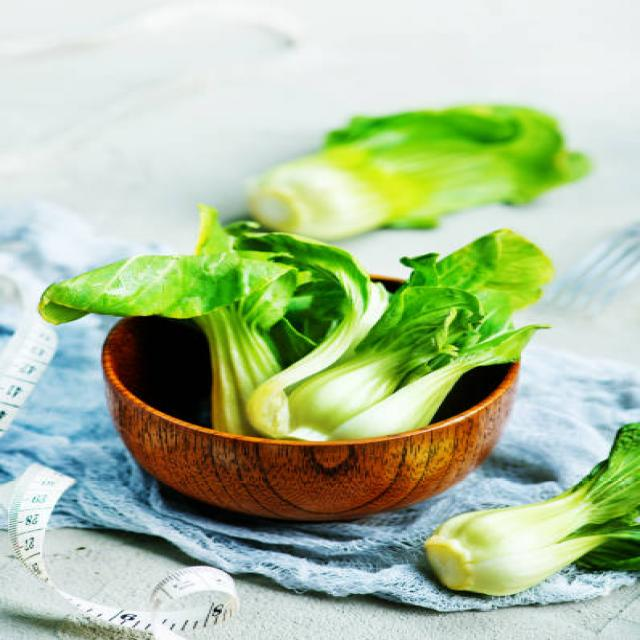Bok Choy: (238, 252, 434, 437), (386, 482, 640, 601)
